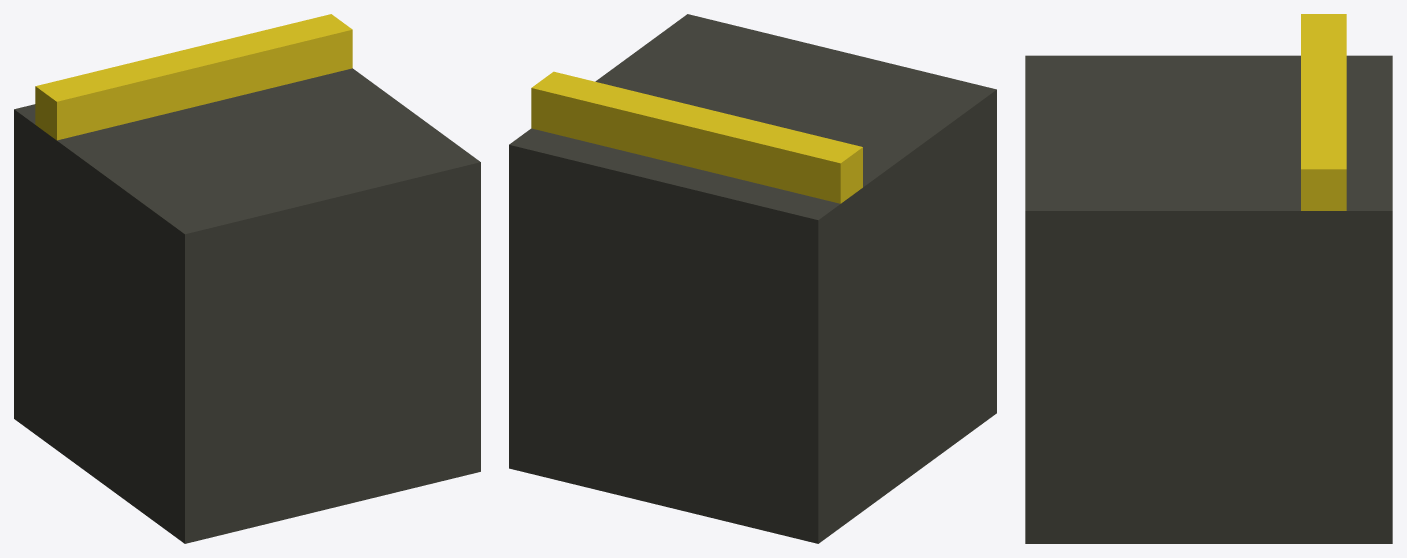
The model's file is StraightBorder.fbx.
3 renders of one model, left to right at view 1: azimuth 30°, elevation 25°; view 2: azimuth 150°, elevation 25°; view 3: azimuth 270°, elevation 25°, orthographic. The views are drawn at different scales.
Visible parts, largest first — view 1: Border, Outline; view 2: Border, Outline; view 3: Border, Outline.
Boxes of the visible parts, <box> form: Border: <box>14,68,480,543</box>; Outline: <box>35,14,352,140</box>; Border: <box>509,14,996,543</box>; Outline: <box>531,71,862,203</box>; Border: <box>1025,55,1392,543</box>; Outline: <box>1301,14,1346,210</box>.
Bounding box in the file's own units: 100 × 112 × 100.
